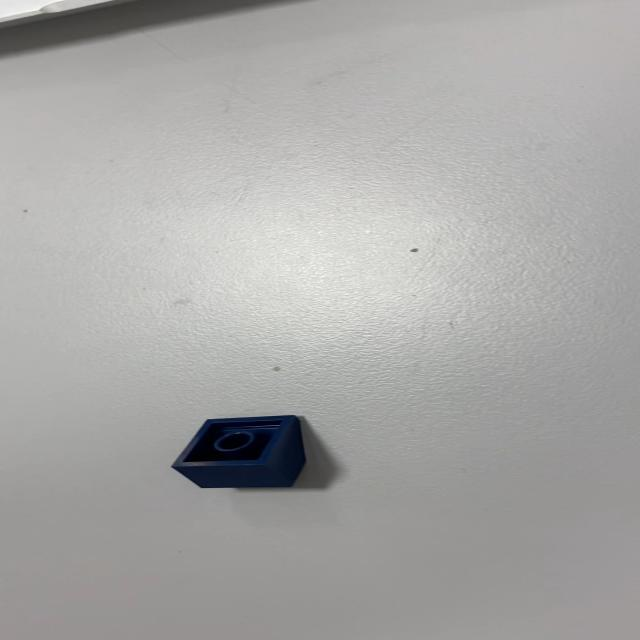P2x2x1: (171, 414, 309, 489)
